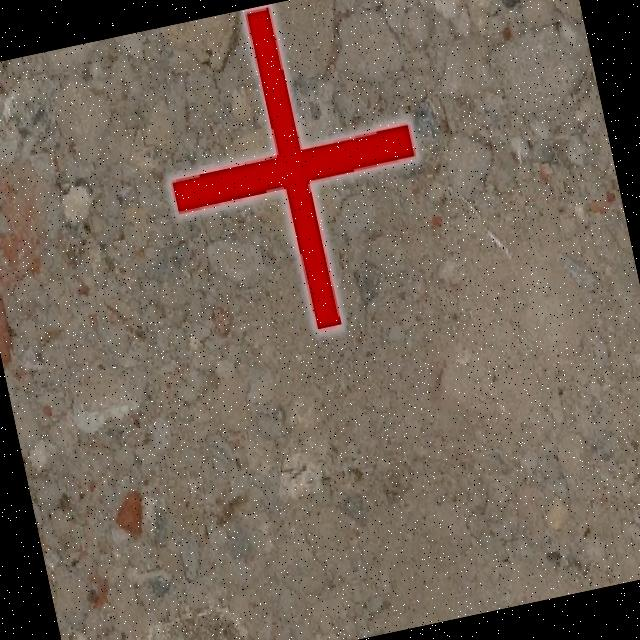x_marker: (137, 0, 446, 355)
